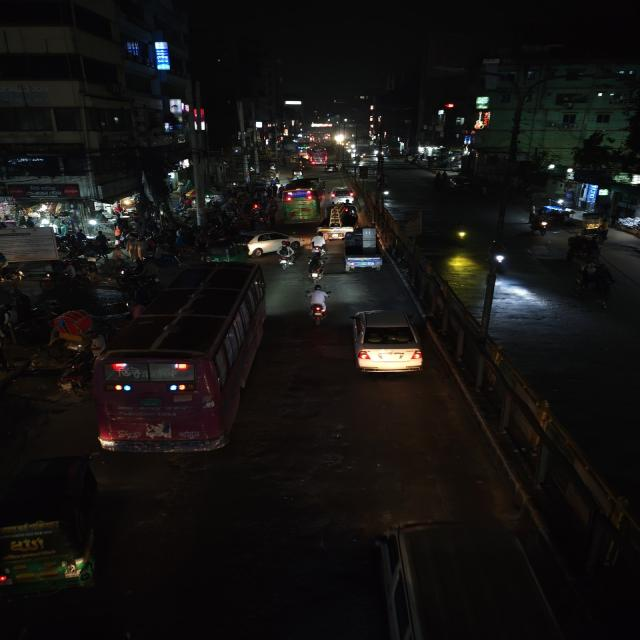bus: (90, 260, 268, 461), (279, 176, 327, 224), (306, 147, 329, 165)
car: (372, 516, 545, 640), (346, 306, 426, 378), (238, 230, 300, 256), (329, 186, 357, 206)
cng: (0, 452, 111, 600), (205, 235, 248, 262), (290, 169, 302, 180)
motorcycle: (302, 284, 333, 326), (56, 360, 88, 398), (484, 238, 510, 274), (304, 252, 328, 284), (275, 242, 299, 270), (526, 211, 551, 236), (450, 220, 472, 248), (308, 232, 330, 258), (376, 176, 393, 202)
pickup_van: (340, 224, 385, 276), (317, 206, 360, 240)
rickshaw: (25, 337, 75, 375), (562, 234, 604, 264)
